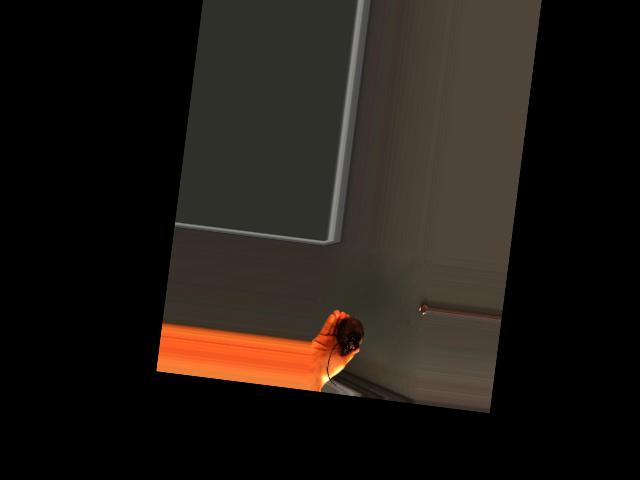beet: (324, 306, 366, 387)
